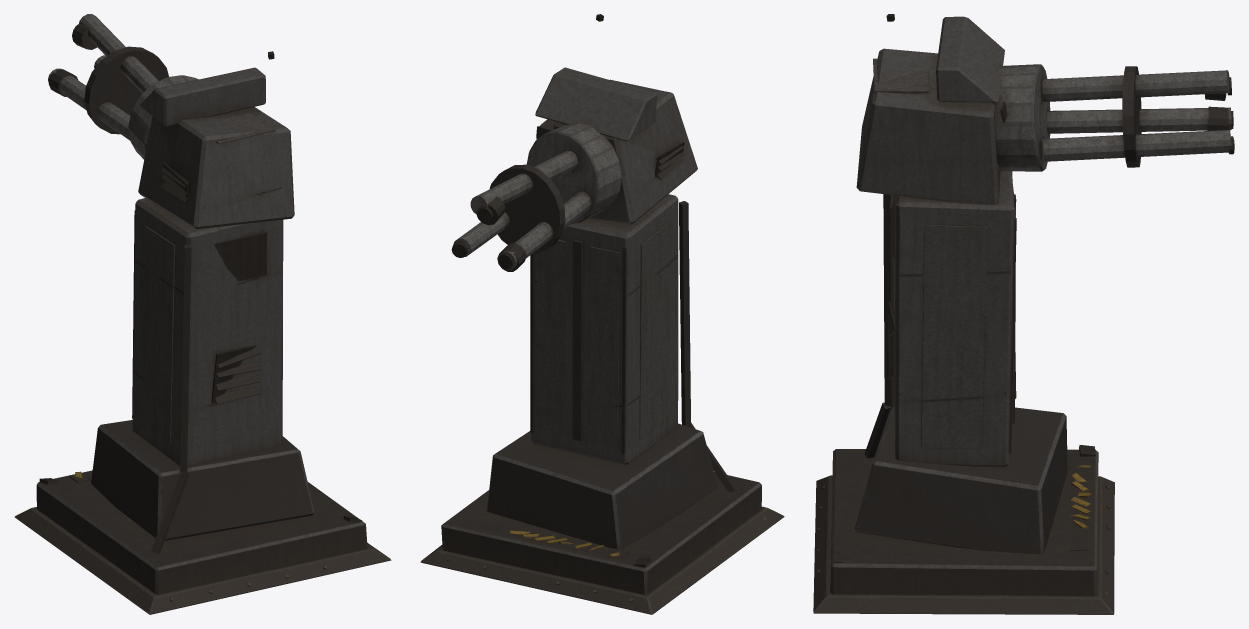
The model's file is chs_geryon_wreck.fbx.
The picture shows the model from 3 angles, left to right: view 1: azimuth 30°, elevation 25°; view 2: azimuth 150°, elevation 25°; view 3: azimuth 270°, elevation 25°; orthographic projection. The views are drawn at different scales.
Visible parts, largest first — view 1: base_bar, turret_bar, drum_bar, barrel1_bar, barrel2_bar; view 2: base_bar, turret_bar, drum_bar, barrel1_bar, barrel2_bar, barrel3_bar; view 3: base_bar, turret_bar, drum_bar, barrel1_bar, barrel3_bar, barrel2_bar.
Boxes of the visible parts, x1,y1,x2,y2 form: base_bar: (14,198,391,614); turret_bar: (138,51,294,229); drum_bar: (84,46,198,159); barrel1_bar: (72,14,158,93); barrel2_bar: (48,68,130,140); base_bar: (420,194,784,614); turret_bar: (535,14,697,223); drum_bar: (489,123,621,253); barrel1_bar: (470,150,578,225); barrel2_bar: (497,191,591,271); barrel3_bar: (451,212,509,257); base_bar: (813,171,1114,614); turret_bar: (856,14,1006,204); drum_bar: (995,64,1141,171); barrel1_bar: (1042,70,1231,101); barrel3_bar: (1043,130,1234,161); barrel2_bar: (1046,106,1233,133).
Bounding box in the file's own units: 989 × 2171 × 1361.
2 materials, 2 textured.
